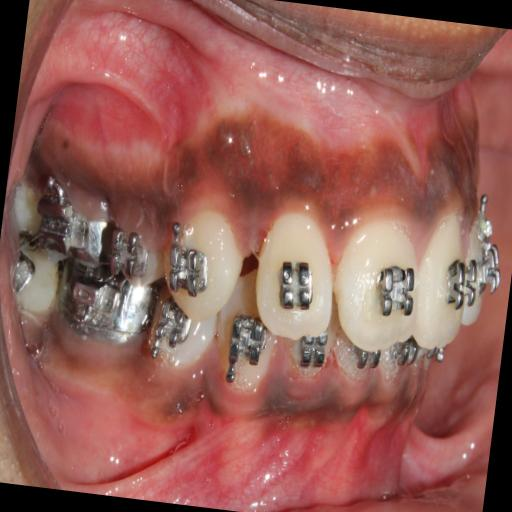correct_brace: (270, 247, 322, 326), (369, 256, 424, 328), (166, 238, 208, 300)
incorrect_brace: (248, 202, 346, 344)
